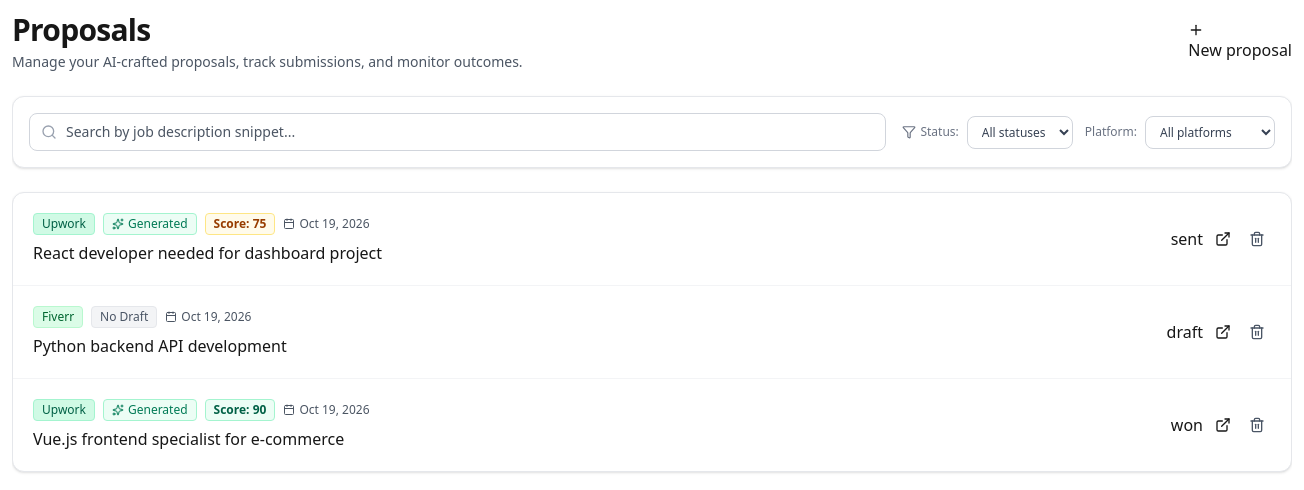
Test case: ProposalsList – filters and search › filters by status using #filter-status select
This screenshot has width=1304, height=490.
// Query by the exact element id to avoid matching row-level status selects
Select "Sent" in the dropdown with id "filter-status" at (1020, 132), box [967,116,1073,148]
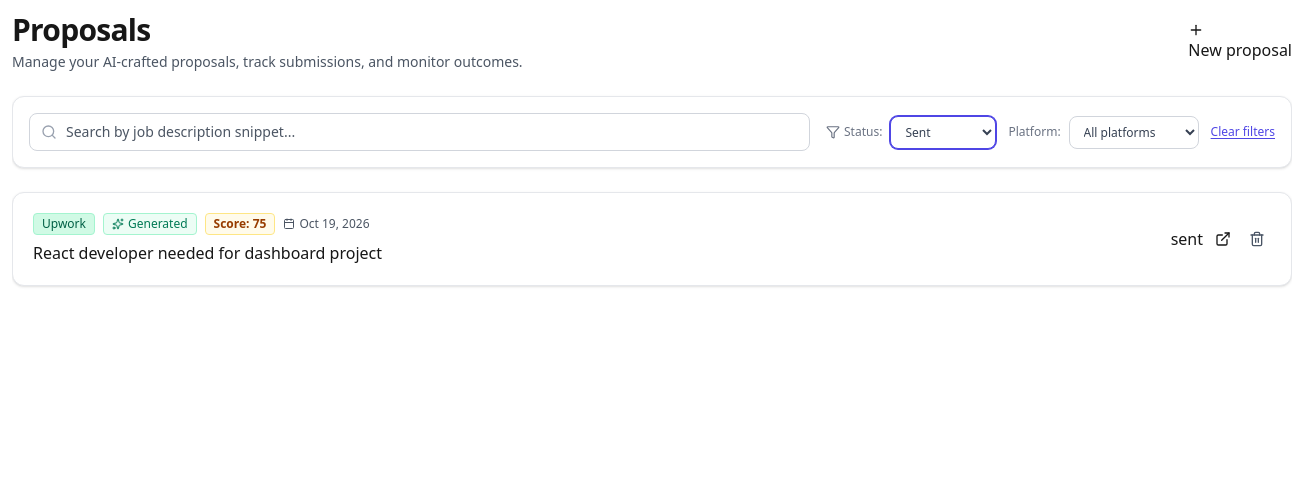
Expected: the link "React developer needed for dashboard project" is shown, [33,242,382,264]
Now the link "Python backend" is gone
Now the link "Vue.js frontend" is gone
